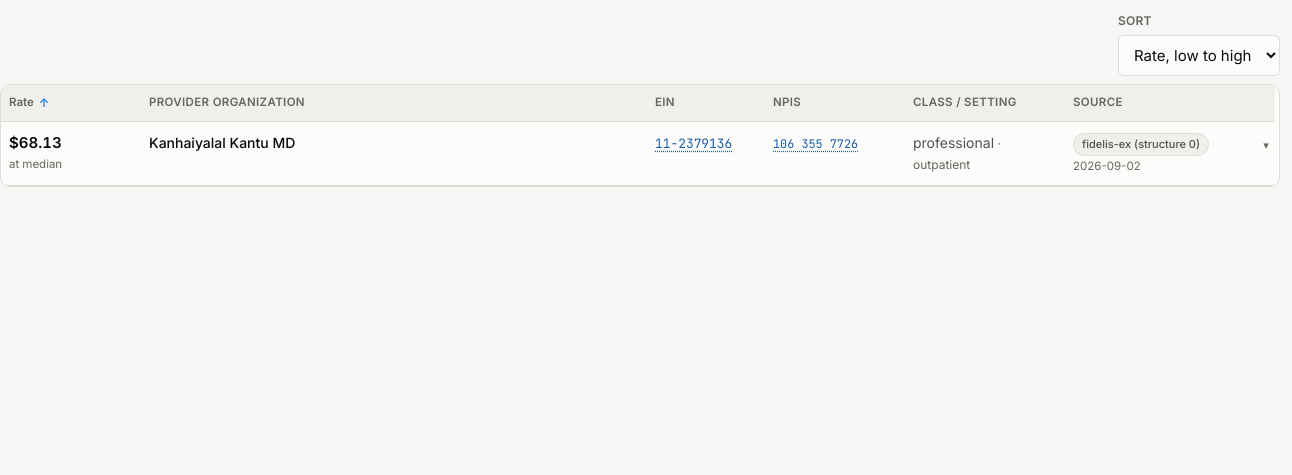
Scenario: untrusted source URLs › refuses to link a javascript: URL from the payer file
The image size is (1292, 475).
Click the button with class "expand-btn" at (1266, 145), box x1=1253 y1=132 x2=1279 y2=158
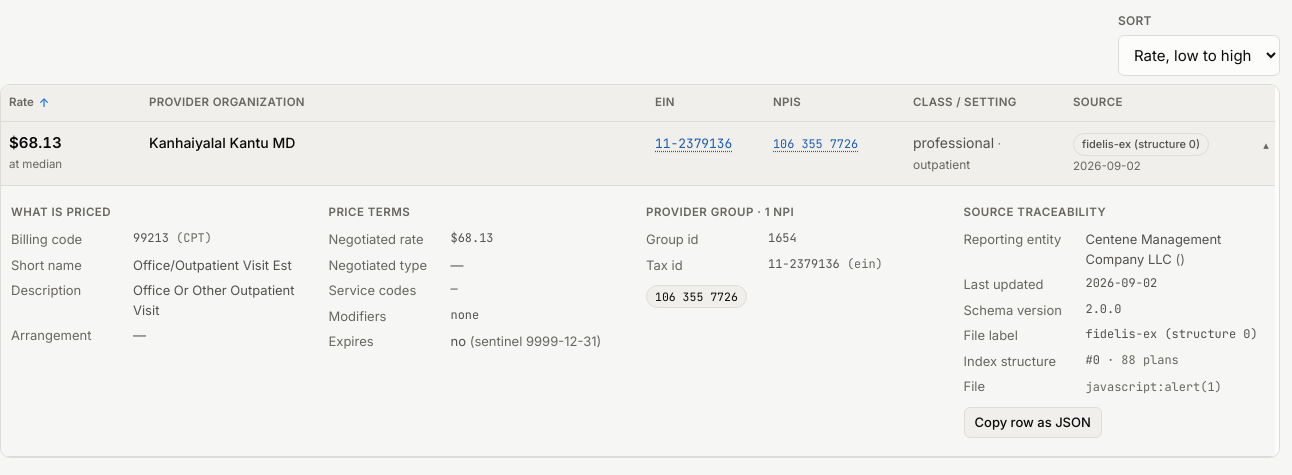
Expected: the element with class "file-link" reads "javascript:alert(1)", x1=1086 y1=379 x2=1222 y2=395
